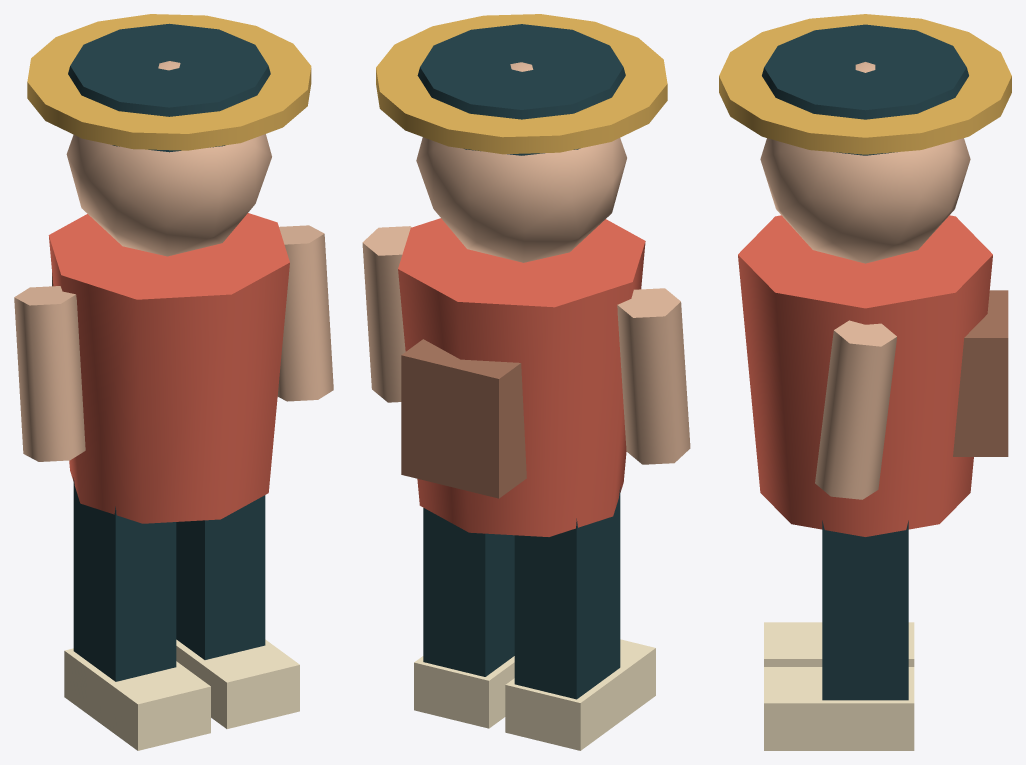
File: guest_a.glb
3 renders of one model, left to right at view 1: azimuth 30°, elevation 25°; view 2: azimuth 150°, elevation 25°; view 3: azimuth 270°, elevation 25°, orthographic. The views are drawn at different scales.
Visible parts, largest first — view 1: guest_a; view 2: guest_a; view 3: guest_a.
Boxes of the visible parts, x1,y1,x2,y2 form: guest_a: (14, 14, 333, 750); guest_a: (362, 14, 690, 750); guest_a: (719, 14, 1011, 750).
Size of the model in its own units: 0.9272 by 1.9 by 0.78.
